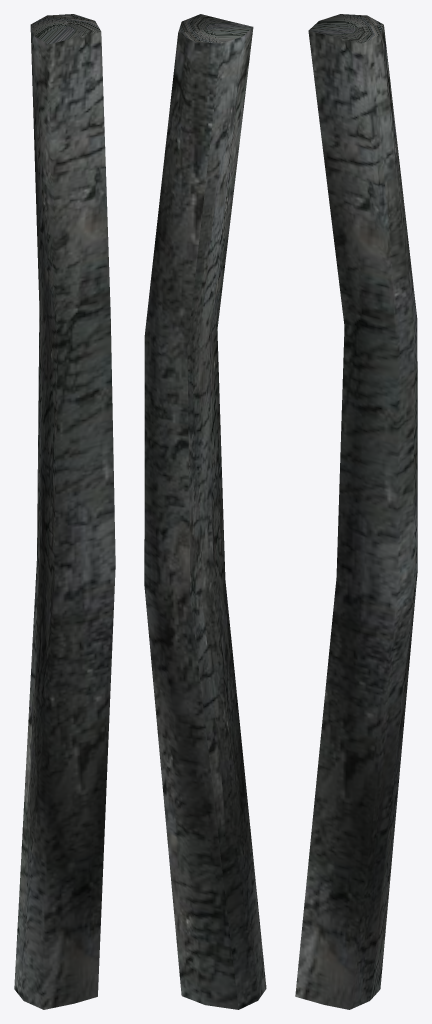
File: prop_wood_debris_small_burnt_03.glb
3 renders of one model, left to right at view 1: azimuth 30°, elevation 25°; view 2: azimuth 150°, elevation 25°; view 3: azimuth 330°, elevation 25°, orthographic.
Bounding box in the file's own units: 5.03 × 48.13 × 4.36.
1 material, 1 textured.
